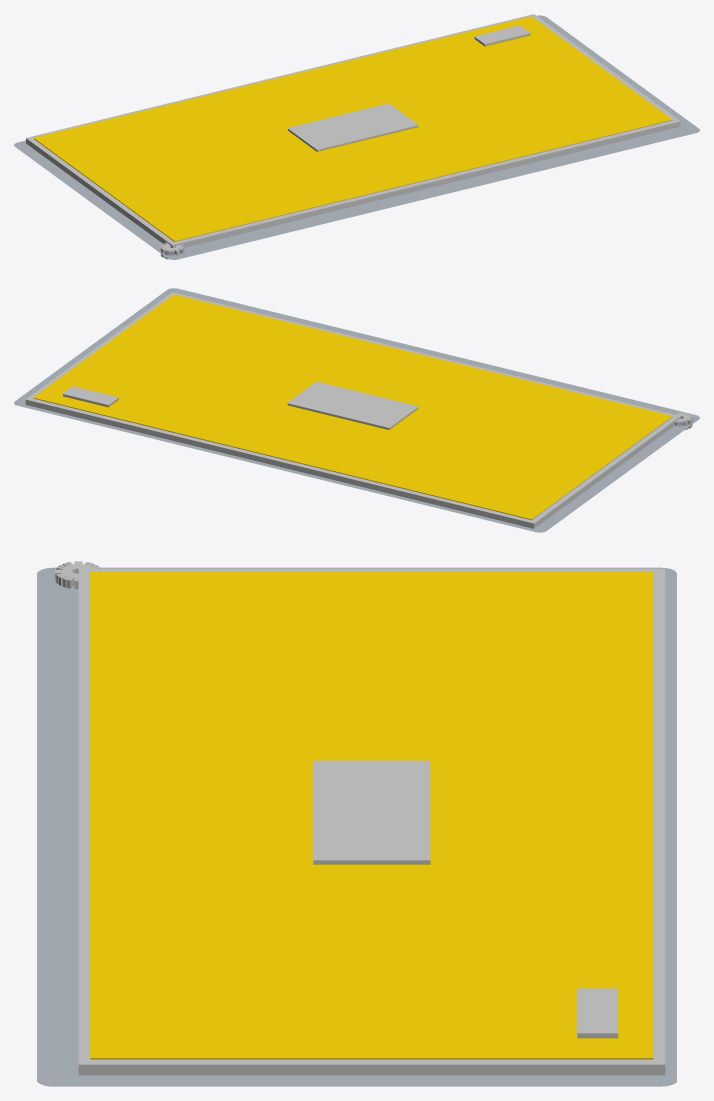
File: Phiếu bảo hành in giấy.obj
3 renders of one model, top to bottom at view 1: azimuth 30°, elevation 25°; view 2: azimuth 150°, elevation 25°; view 3: azimuth 270°, elevation 25°, orthographic. The views are drawn at different scales.
Visible parts, largest first — view 1: gold, khoi, black, graycar, white, graycaricon; view 2: gold, khoi, black, graycar, white, graycaricon; view 3: gold, khoi, black, graycar, white, graycaricon.
Boxes of the visible parts, box(x1,y1,x2,y2) form: gold: box(34, 16, 672, 241); khoi: box(14, 15, 699, 259); black: box(26, 14, 680, 247); graycar: box(288, 103, 418, 151); white: box(26, 124, 680, 247); graycaricon: box(474, 25, 530, 46); gold: box(33, 294, 672, 519); khoi: box(14, 288, 699, 532); black: box(25, 292, 680, 528); graycar: box(287, 382, 418, 429); white: box(25, 402, 674, 528); graycaricon: box(63, 386, 118, 407); gold: box(90, 572, 653, 1059); khoi: box(37, 567, 676, 1086); black: box(78, 568, 665, 1074); graycar: box(313, 761, 430, 864); white: box(78, 1070, 665, 1075); graycaricon: box(577, 988, 618, 1038).
Size of what is drawn, in the model's own units: 0.2092 by 0.0047 by 0.1091.
